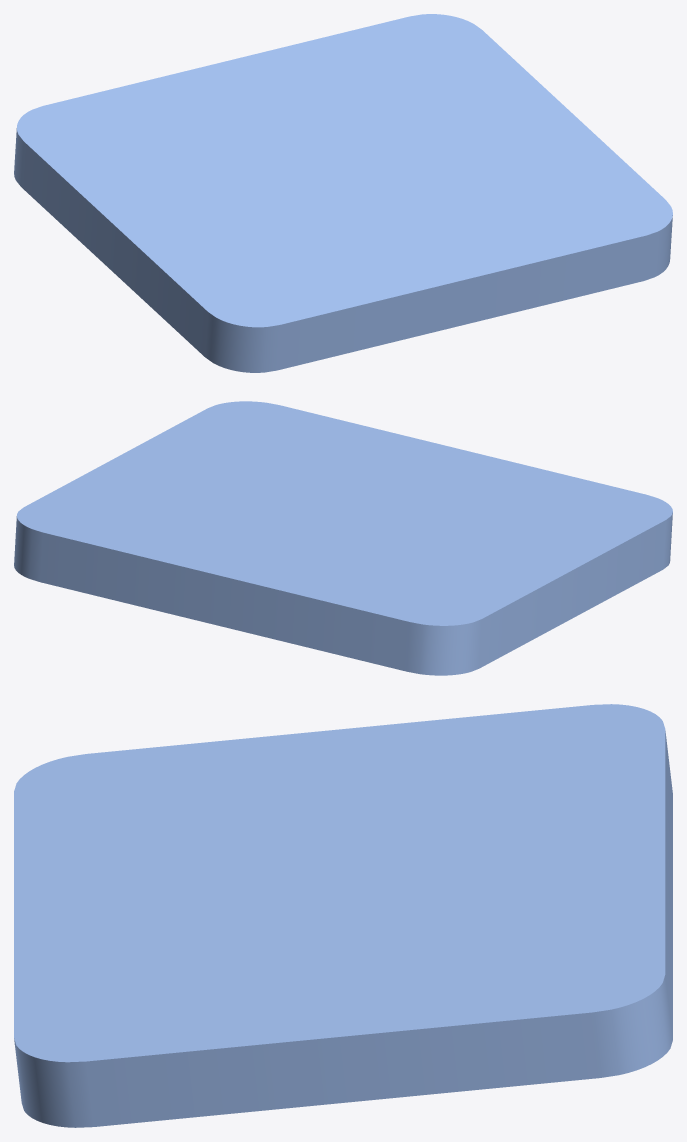
Rendered from original-17.obj.
The picture shows the model from 3 angles, top to bottom: view 1: azimuth 30°, elevation 25°; view 2: azimuth 150°, elevation 25°; view 3: azimuth 270°, elevation 25°; orthographic projection. The views are drawn at different scales.
Parts seen in each view (by area): view 1: Normal_Key3/Normal_Key/mesh28/mesh28-geometry#mesh28-geometry; view 2: Normal_Key3/Normal_Key/mesh28/mesh28-geometry#mesh28-geometry; view 3: Normal_Key3/Normal_Key/mesh28/mesh28-geometry#mesh28-geometry.
Boxes of the visible parts, <box> form: Normal_Key3/Normal_Key/mesh28/mesh28-geometry#mesh28-geometry: <box>14,14,672,372</box>; Normal_Key3/Normal_Key/mesh28/mesh28-geometry#mesh28-geometry: <box>14,401,672,675</box>; Normal_Key3/Normal_Key/mesh28/mesh28-geometry#mesh28-geometry: <box>14,704,672,1127</box>.
Size of the model in its own units: 0.1039 by 0.0203 by 0.0941.
